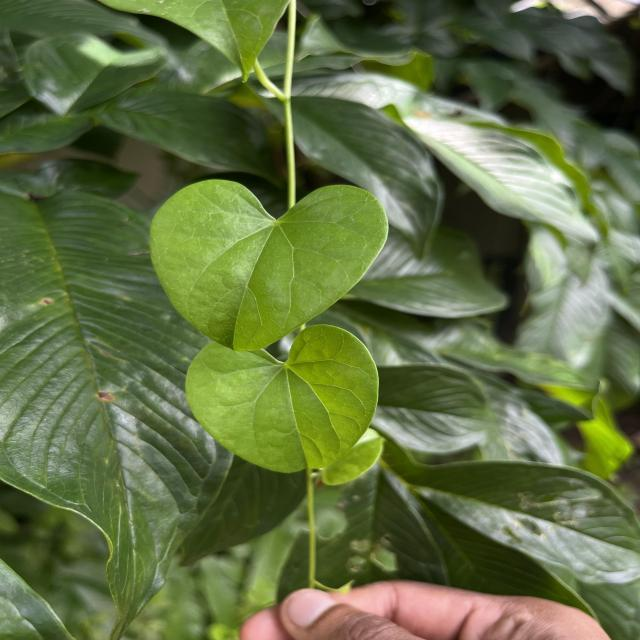Tinospora cordifolia: (147, 176, 391, 354), (184, 322, 382, 475)
